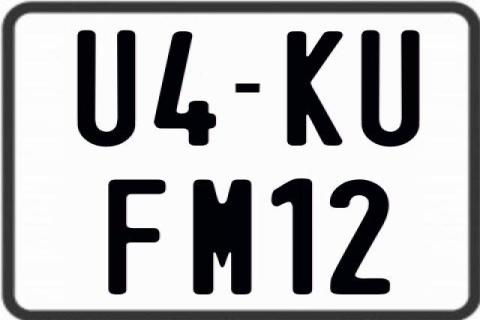0: (153, 31, 221, 148), (330, 179, 393, 295), (269, 178, 310, 294)
F: (108, 180, 168, 300)
K: (285, 30, 341, 148)
M: (192, 178, 252, 294)
U: (358, 28, 419, 145), (75, 28, 133, 148)
